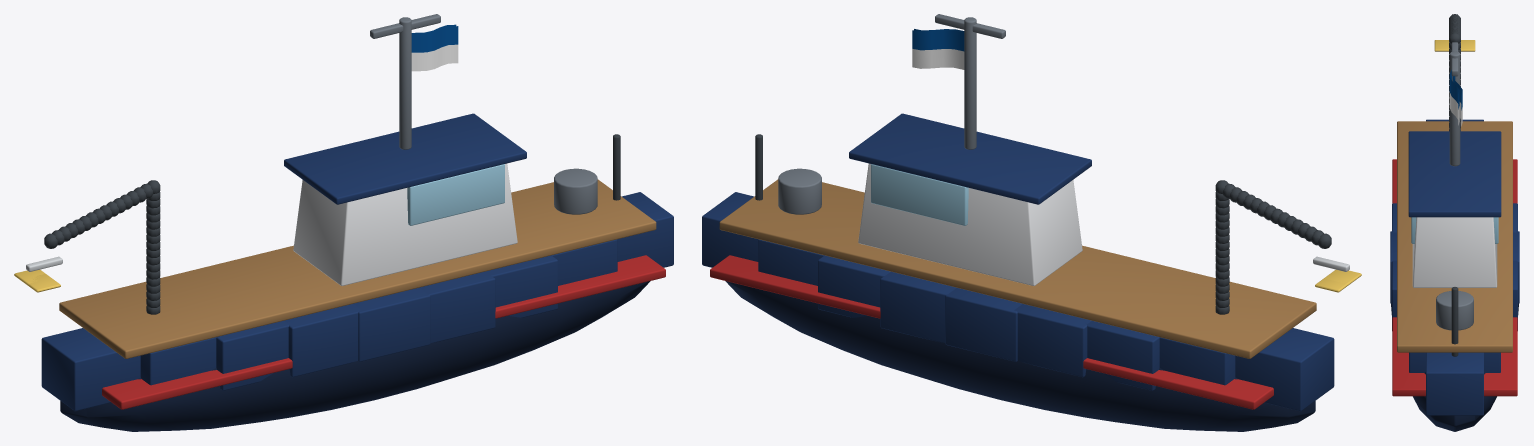
File: barco_guarda.glb
3 views of the same model, side by side, from view 1: azimuth 30°, elevation 25°; view 2: azimuth 150°, elevation 25°; view 3: azimuth 270°, elevation 25° (orthographic). The views are drawn at different scales.
Visible parts, largest first — view 1: barco_guarda; view 2: barco_guarda; view 3: barco_guarda.
Part boxes in pixels (x1=…): barco_guarda: x1=14, y1=14, x2=673, y2=431; barco_guarda: x1=702, y1=14, x2=1361, y2=431; barco_guarda: x1=1390, y1=14, x2=1519, y2=431.
Bounding box in the file's own units: 4.64 × 2.55 × 0.95.
